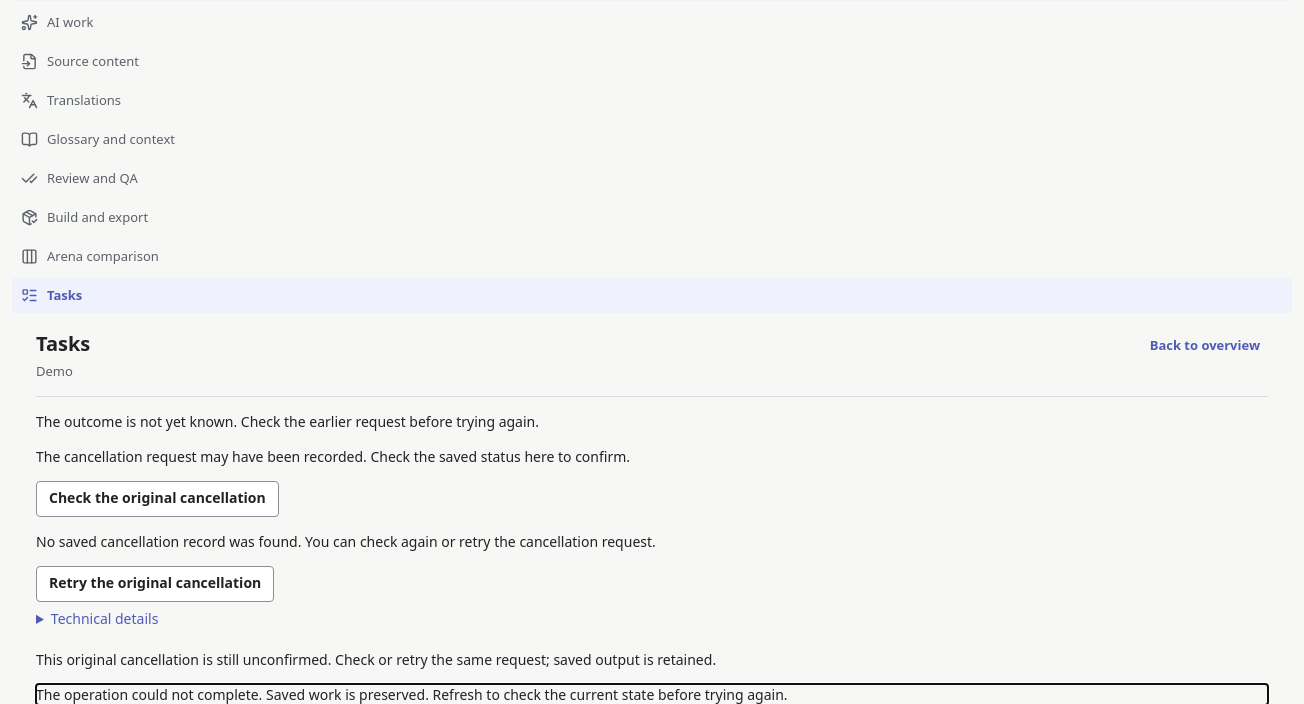
Scenario: opens previously unvisited Tasks when another workspace has an unknown cancellation and retries that original request
This screenshot has width=1304, height=704.
(page scrolled)
Expected: the heading "Tasks" is shown, [36,331,90,357]
Click the button "Retry the original cancellation". click: (155, 584)
box: [36,566,274,602]
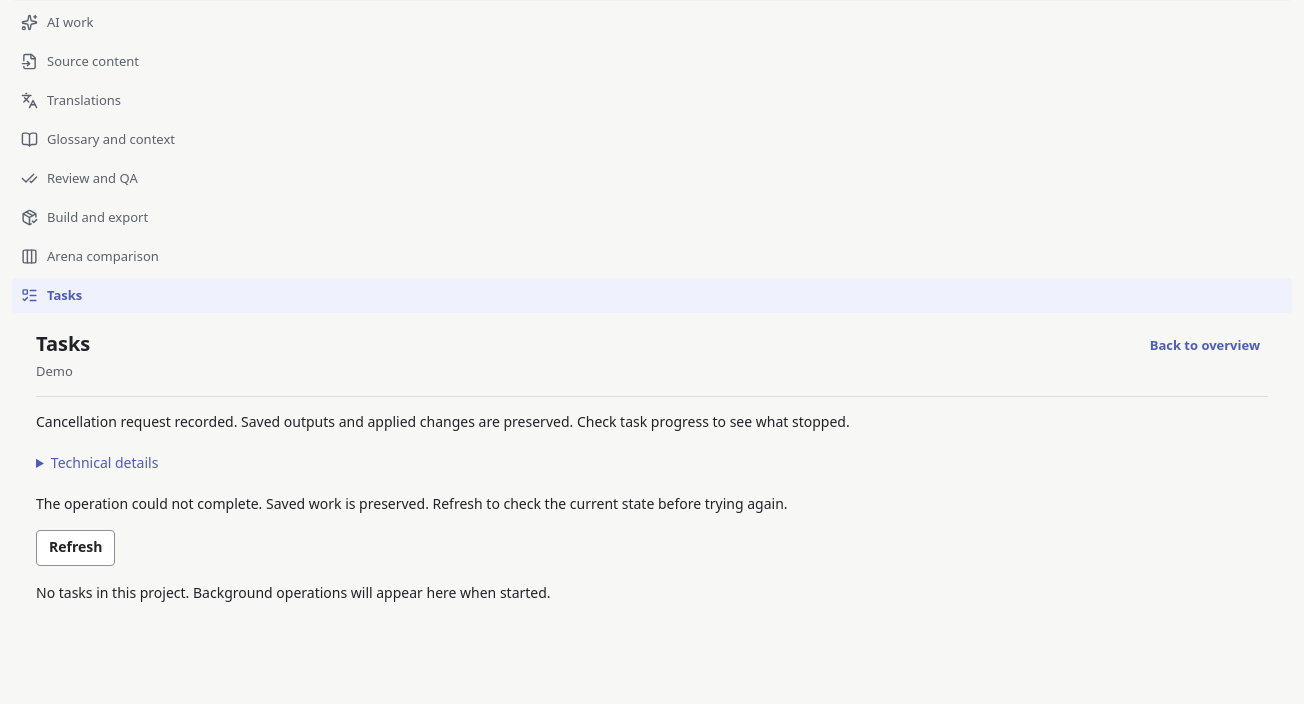
Expected: the text "Cancellation request recorded" is shown, [36,412,850,430]
